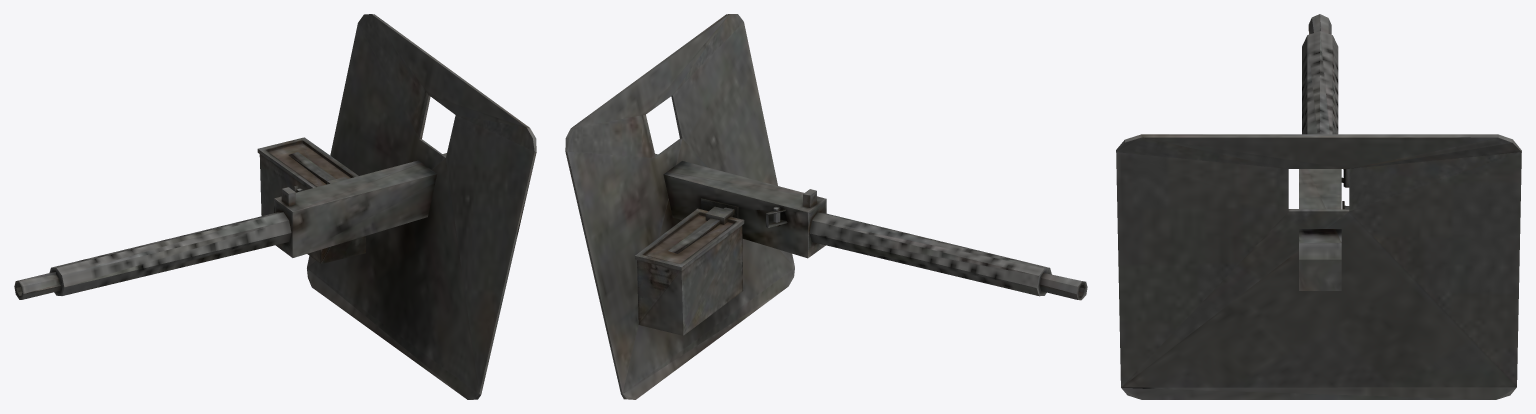
Rendered from car_m_gun_barrel.glb.
The picture shows the model from 3 angles, left to right: view 1: azimuth 30°, elevation 25°; view 2: azimuth 150°, elevation 25°; view 3: azimuth 270°, elevation 25°; orthographic projection. The views are drawn at different scales.
Visible parts, largest first — view 1: geometry_0; view 2: geometry_0; view 3: geometry_0.
Part boxes in pixels (x1=…): geometry_0: x1=14, y1=14, x2=536, y2=399; geometry_0: x1=565, y1=14, x2=1087, y2=399; geometry_0: x1=1116, y1=14, x2=1521, y2=399.
Bounding box in the file's own units: 0.9561 × 0.5303 × 0.6567.
1 material, 1 textured.
